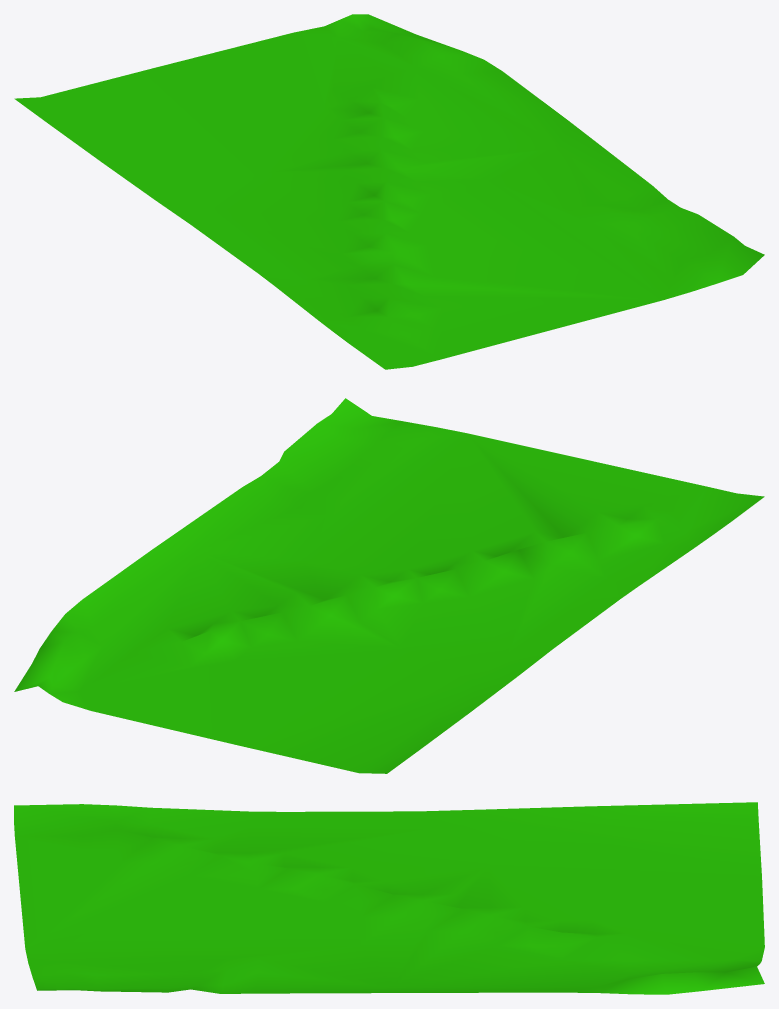
The model's file is SM_Sterilization_Container_Cloth_2.FBX.
The picture shows the model from 3 angles, top to bottom: view 1: azimuth 30°, elevation 25°; view 2: azimuth 150°, elevation 25°; view 3: azimuth 270°, elevation 25°; orthographic projection. The views are drawn at different scales.
Parts seen in each view (by area): view 1: Sterilization_Container_Cloth_2; view 2: Sterilization_Container_Cloth_2; view 3: Sterilization_Container_Cloth_2.
Boxes of the visible parts, left/top/right/bottom form: Sterilization_Container_Cloth_2: left=14, top=14, right=764, bottom=369; Sterilization_Container_Cloth_2: left=14, top=398, right=764, bottom=773; Sterilization_Container_Cloth_2: left=14, top=802, right=764, bottom=994.
Bounding box in the file's own units: 34.53 × 1.12 × 56.27.
